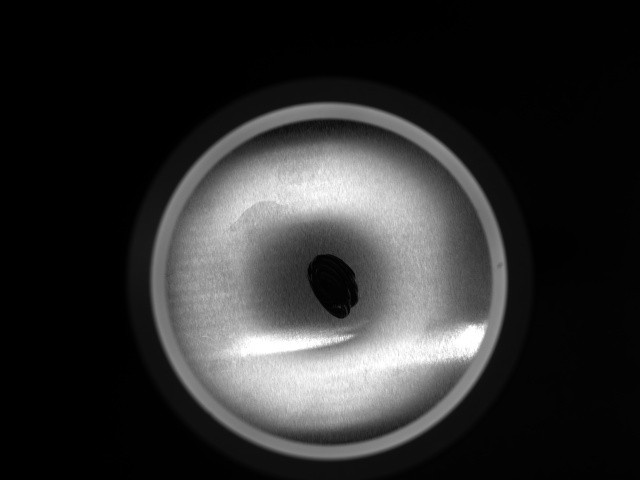zang_wu: (305, 251, 359, 321)
